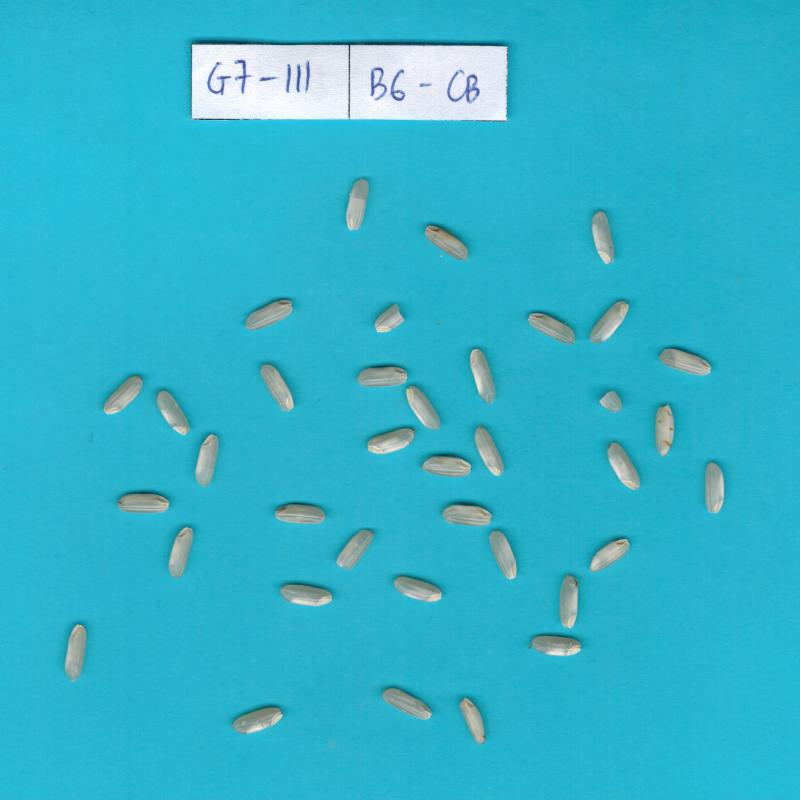Break: (336, 530, 374, 570), (375, 304, 405, 333), (599, 391, 622, 412)
Rice: (590, 301, 629, 343), (382, 688, 432, 720), (607, 442, 640, 490), (474, 424, 504, 476), (425, 225, 468, 261), (156, 391, 190, 436), (104, 376, 143, 415), (261, 365, 294, 411), (406, 386, 440, 430), (528, 313, 575, 344), (659, 348, 712, 375), (246, 300, 293, 330), (232, 707, 283, 734), (470, 349, 495, 404), (590, 539, 630, 572), (168, 526, 193, 578), (490, 531, 517, 579), (195, 434, 219, 487), (393, 577, 443, 602), (65, 624, 87, 680), (592, 211, 615, 264), (460, 697, 485, 745), (368, 428, 414, 454), (280, 584, 332, 606), (346, 179, 368, 230), (441, 505, 492, 526), (421, 456, 471, 477), (117, 493, 169, 513), (275, 504, 326, 524), (531, 636, 581, 656), (358, 367, 407, 387), (560, 575, 578, 629), (705, 462, 724, 513), (656, 404, 674, 456)
